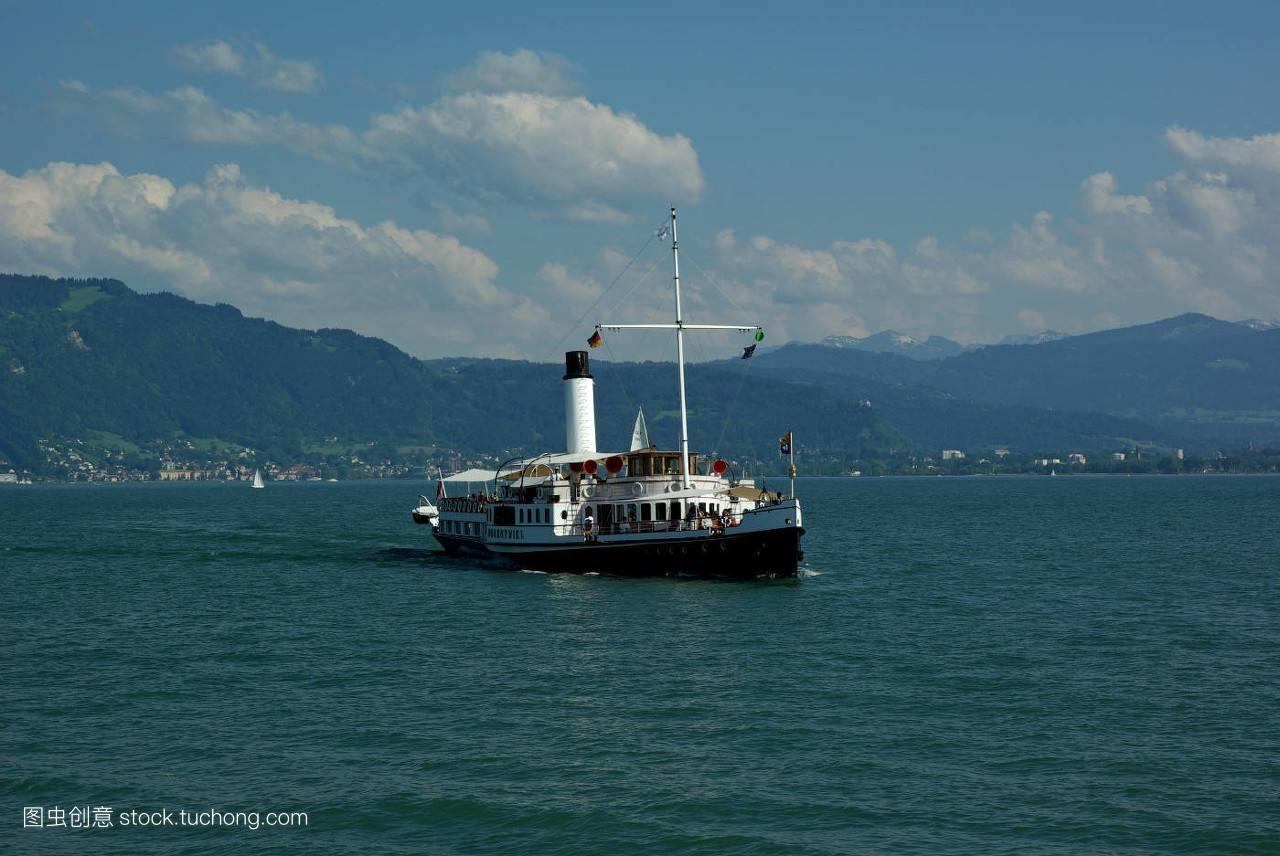otherboat: (403, 217, 867, 577)
